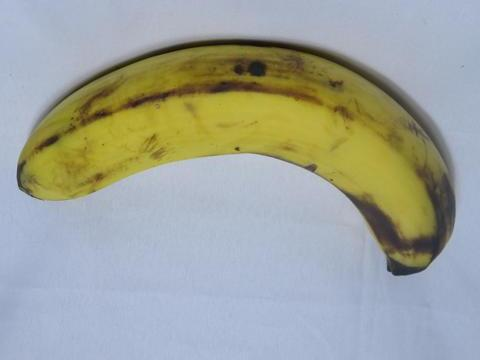ripe: (3, 24, 472, 285)
